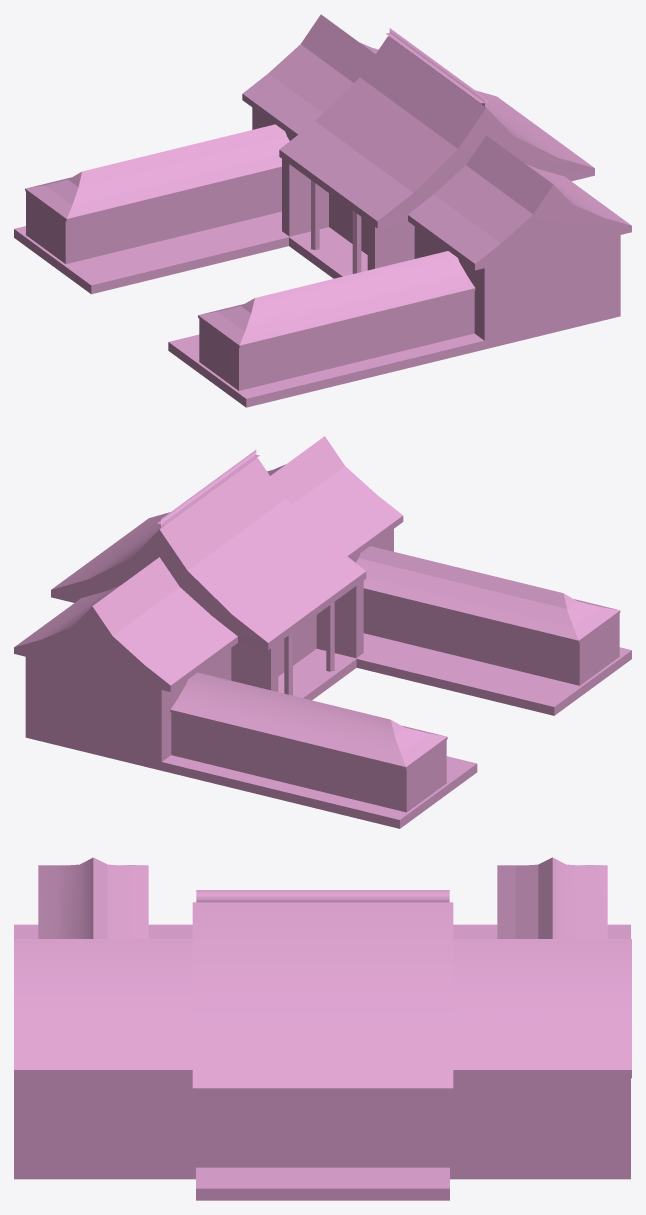
File: chin_ccb.dae
3 renders of one model, top to bottom at view 1: azimuth 30°, elevation 25°; view 2: azimuth 150°, elevation 25°; view 3: azimuth 270°, elevation 25°, orthographic. The views are drawn at different scales.
Parts seen in each view (by area): view 1: Object02; view 2: Object02; view 3: Object02.
Boxes of the visible parts, x1,y1,x2,y2 form: Object02: (14, 14, 631, 407); Object02: (14, 436, 631, 828); Object02: (14, 857, 631, 1200).
Size of the model in its own units: 48.95 by 47.4 by 20.79.
